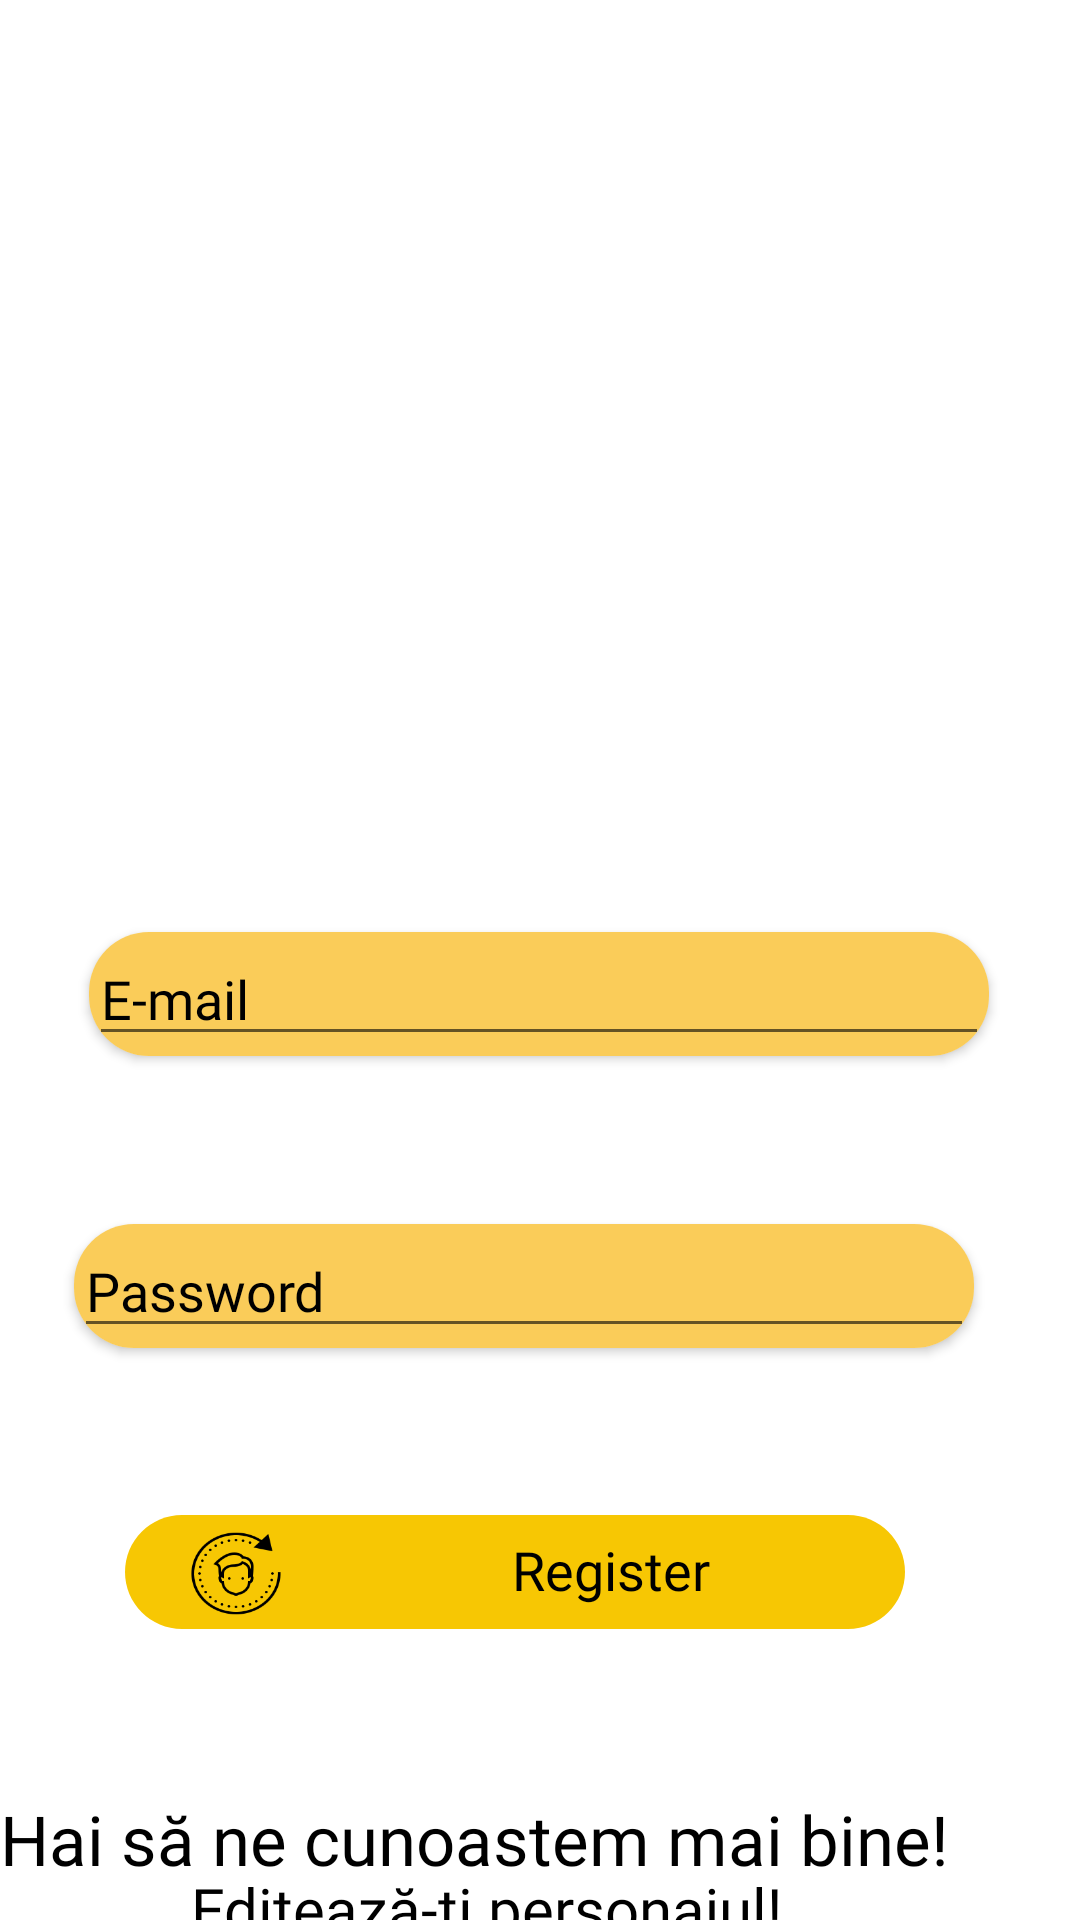

Where icons sit on this 1080 × 1920 app screen, as (x1, y1, x2, y2):
change user: (191, 1532, 281, 1615)
